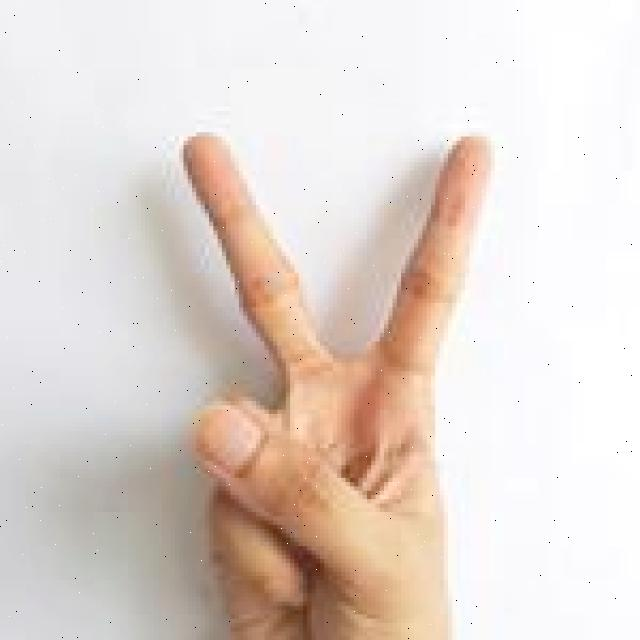V: (170, 125, 499, 640)
